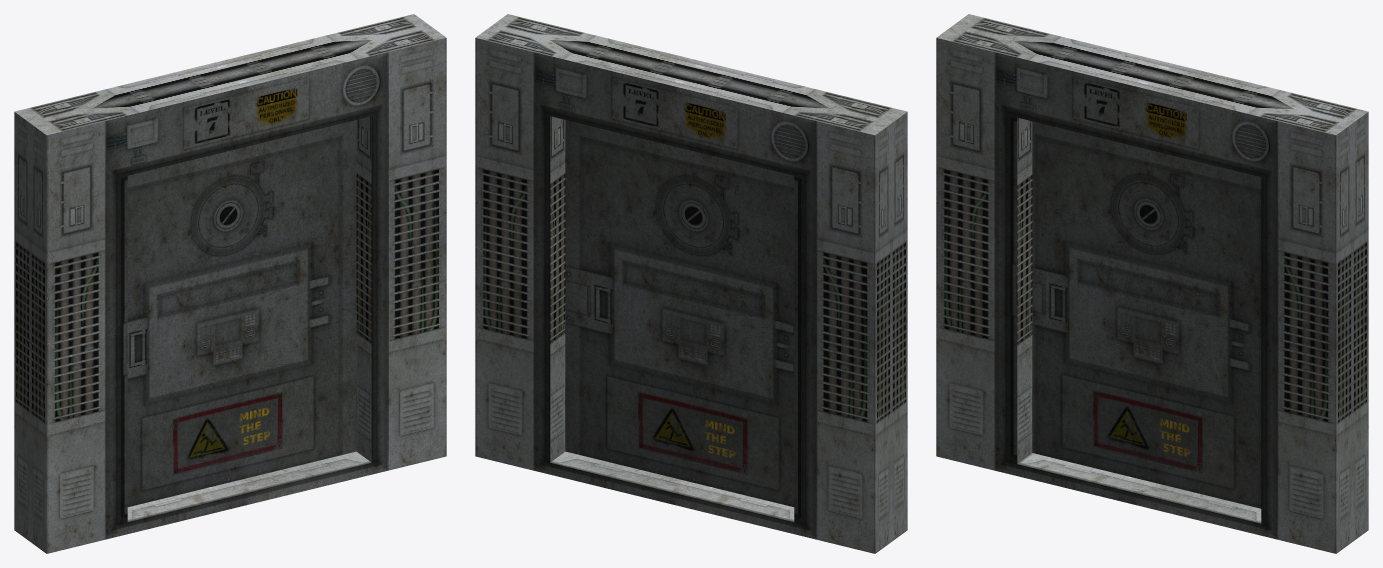
File: door_frame2.fbx
3 views of the same model, side by side, from view 1: azimuth 30°, elevation 25°; view 2: azimuth 150°, elevation 25°; view 3: azimuth 330°, elevation 25° (orthographic).
Visible parts, largest first — view 1: Mesh; view 2: Mesh; view 3: Mesh.
Boxes of the visible parts, <box> form: Mesh: <box>14,14,446,553</box>; Mesh: <box>475,14,907,553</box>; Mesh: <box>936,14,1368,553</box>.
Bounding box in the file's own units: 215 × 215 × 30.3.
1 material, 1 textured.
